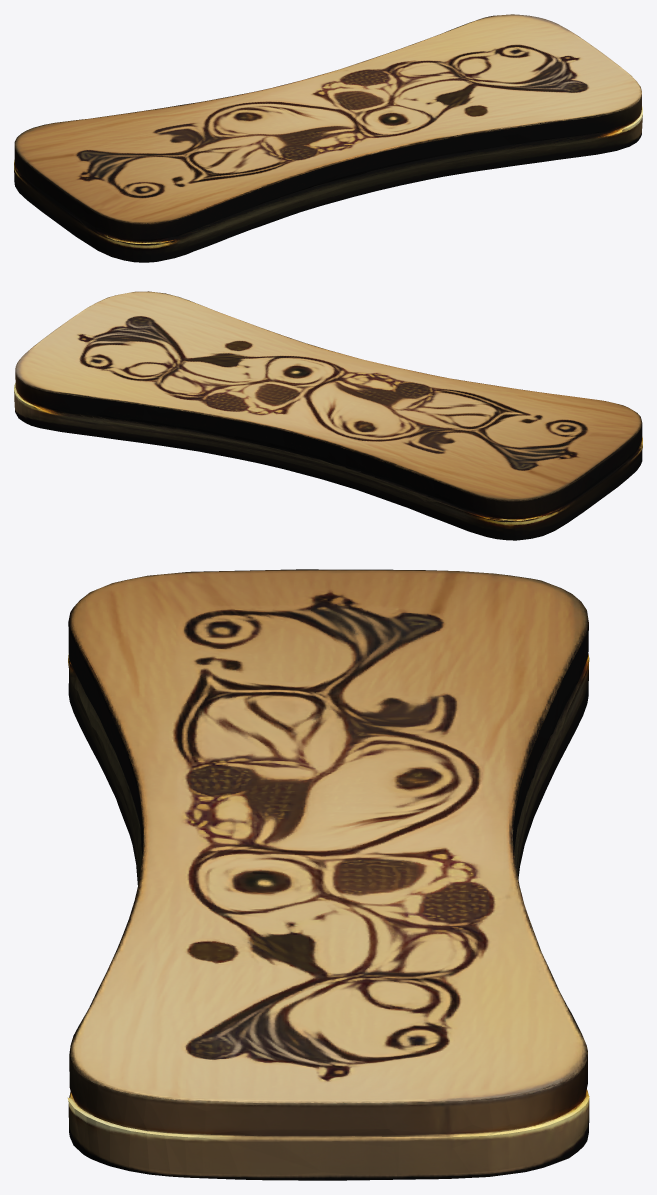
Rendered from wooden-bookmark-futuristic.jpeg.glb.
3 renders of one model, top to bottom at view 1: azimuth 30°, elevation 25°; view 2: azimuth 150°, elevation 25°; view 3: azimuth 270°, elevation 25°, orthographic. The views are drawn at different scales.
Visible parts, largest first — view 1: world; view 2: world; view 3: world.
Part boxes in pixels (x1,y1,x2,y2): world: [14, 14, 642, 262]; world: [14, 291, 642, 540]; world: [67, 569, 589, 1180].
Bounding box in the file's own units: 1 × 0.0702 × 0.4138.
Materials: 1 (1 with a texture image).
